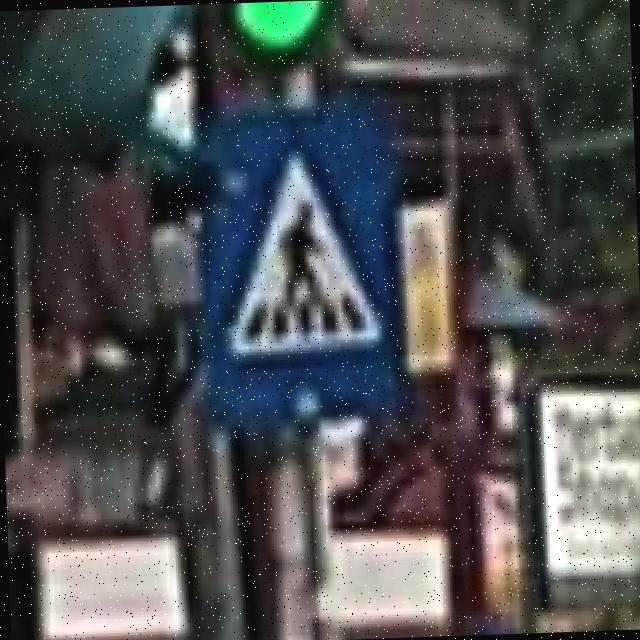Przejscie dla pieszych: (200, 115, 408, 418)
